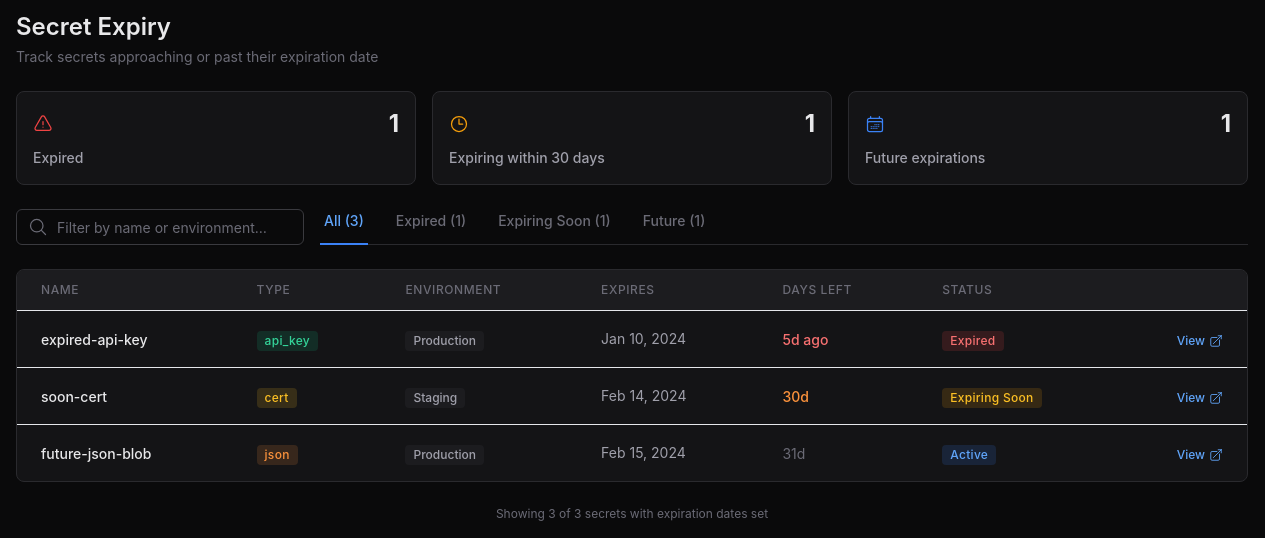
Scenario: SecretExpiryPage › filters by name or environment via the search input, scoped to the active tab
Check: the text "expired-api-key" is shown, box [41,331,148,348]
Type "staging" into the field with placeholder "Filter by name or environment…".
click(160, 227); type("staging")  # box [16,209,304,245]
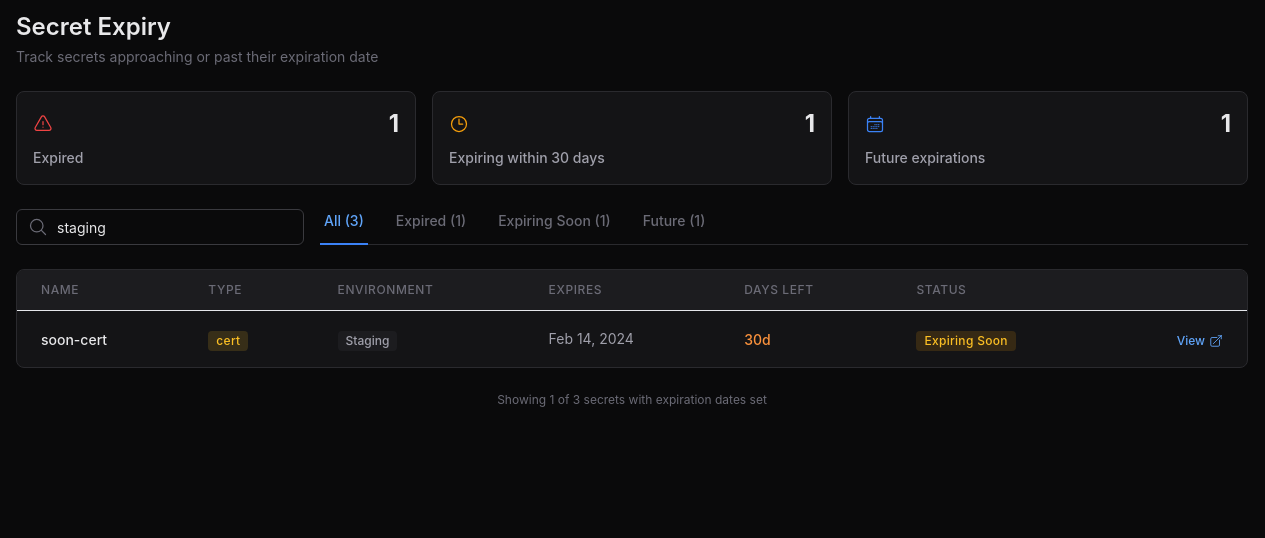
Check: the text "soon-cert" is shown, box [41,331,107,348]
Check: the text "expired-api-key" is gone
Check: the text "future-json-blob" is gone
Replace the text in the field with placeholder "Filter by name or environment…" with "future-json" at (160, 227), box [16,209,304,245]
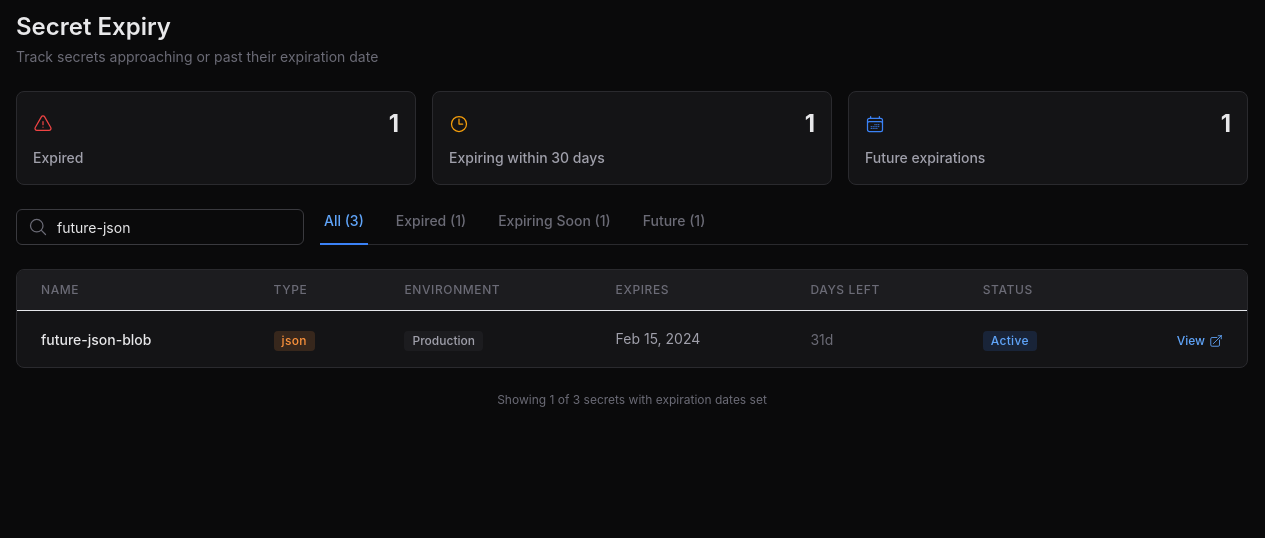
Check: the text "future-json-blob" is shown, box [41,331,152,348]
Check: the text "soon-cert" is gone
